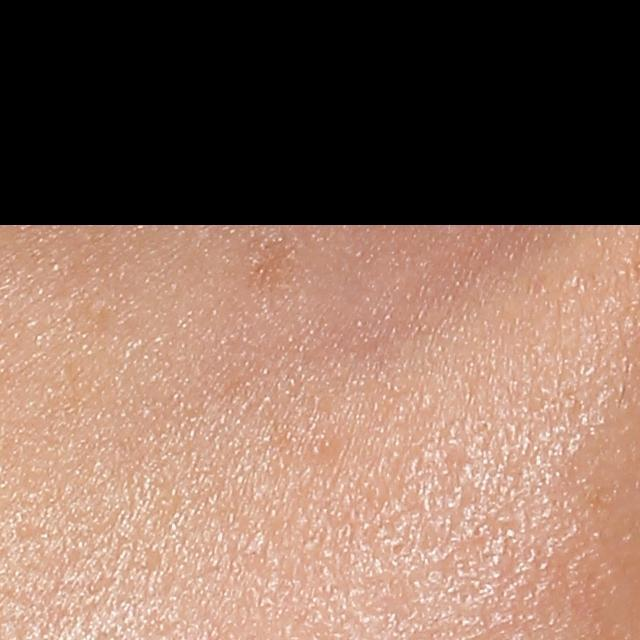comedo: (307, 432, 337, 461)
melasma: (242, 236, 294, 301)
